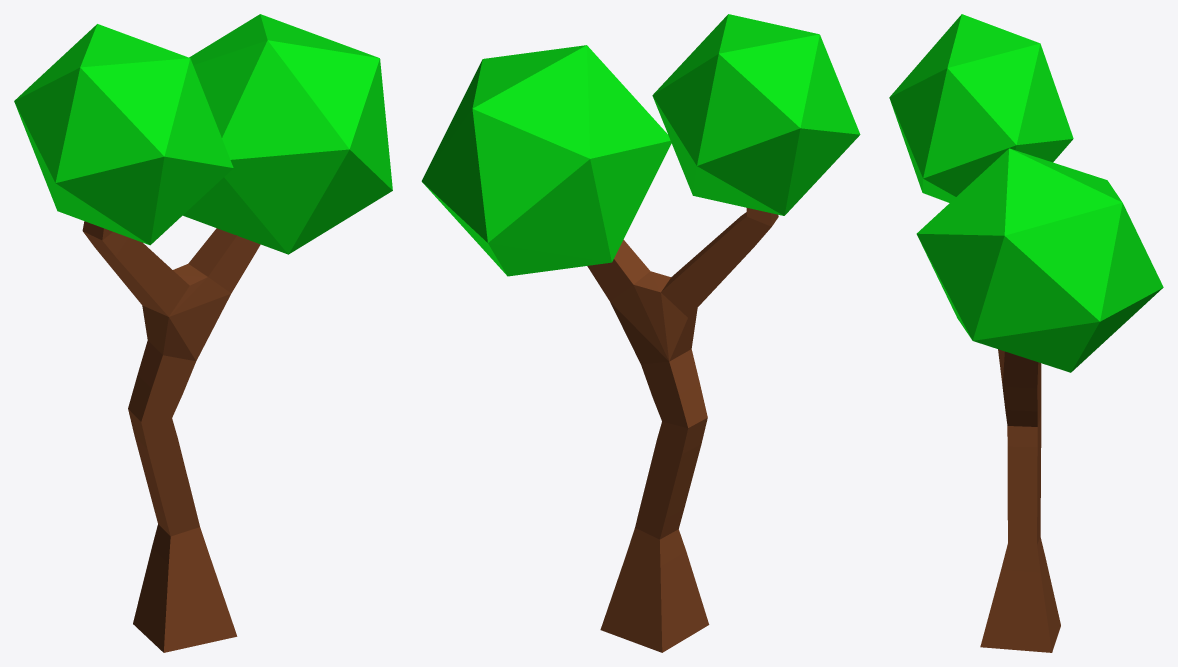
The model's file is tree5.fbx.
The picture shows the model from 3 angles, left to right: view 1: azimuth 30°, elevation 25°; view 2: azimuth 150°, elevation 25°; view 3: azimuth 270°, elevation 25°; orthographic projection. The views are drawn at different scales.
Parts seen in each view (by area): view 1: Icosphere.014, Icosphere.015, Tree5, Tree5.001; view 2: Icosphere.014, Icosphere.015, Tree5, Tree5.001; view 3: Icosphere.014, Icosphere.015, Tree5, Tree5.001.
Boxes of the visible parts, bbox=[...] form: Icosphere.014: bbox=[183, 14, 392, 254]; Icosphere.015: bbox=[14, 24, 233, 245]; Tree5: bbox=[82, 221, 260, 536]; Tree5.001: bbox=[133, 524, 237, 652]; Icosphere.014: bbox=[421, 45, 671, 276]; Icosphere.015: bbox=[652, 14, 860, 215]; Tree5: bbox=[587, 207, 778, 539]; Tree5.001: bbox=[600, 528, 709, 652]; Icosphere.014: bbox=[916, 148, 1163, 372]; Icosphere.015: bbox=[889, 14, 1073, 202]; Tree5: bbox=[998, 349, 1041, 544]; Tree5.001: bbox=[980, 537, 1060, 652].
Bounding box in the file's own units: 588 × 953 × 420.
